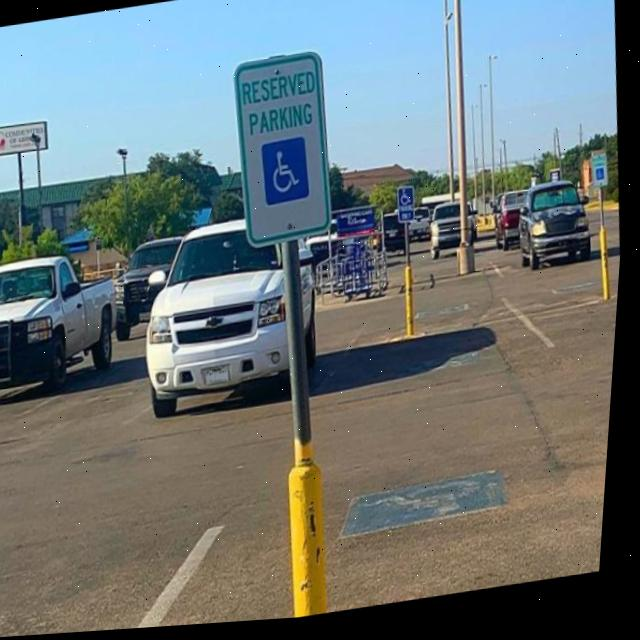symbol_of_access: (267, 146, 309, 203), (400, 189, 418, 213), (595, 170, 611, 194)
